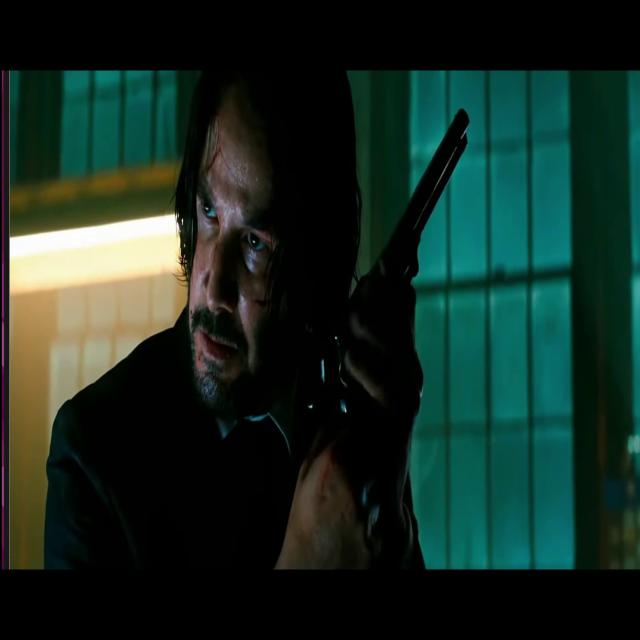weapons: (318, 93, 477, 497)
